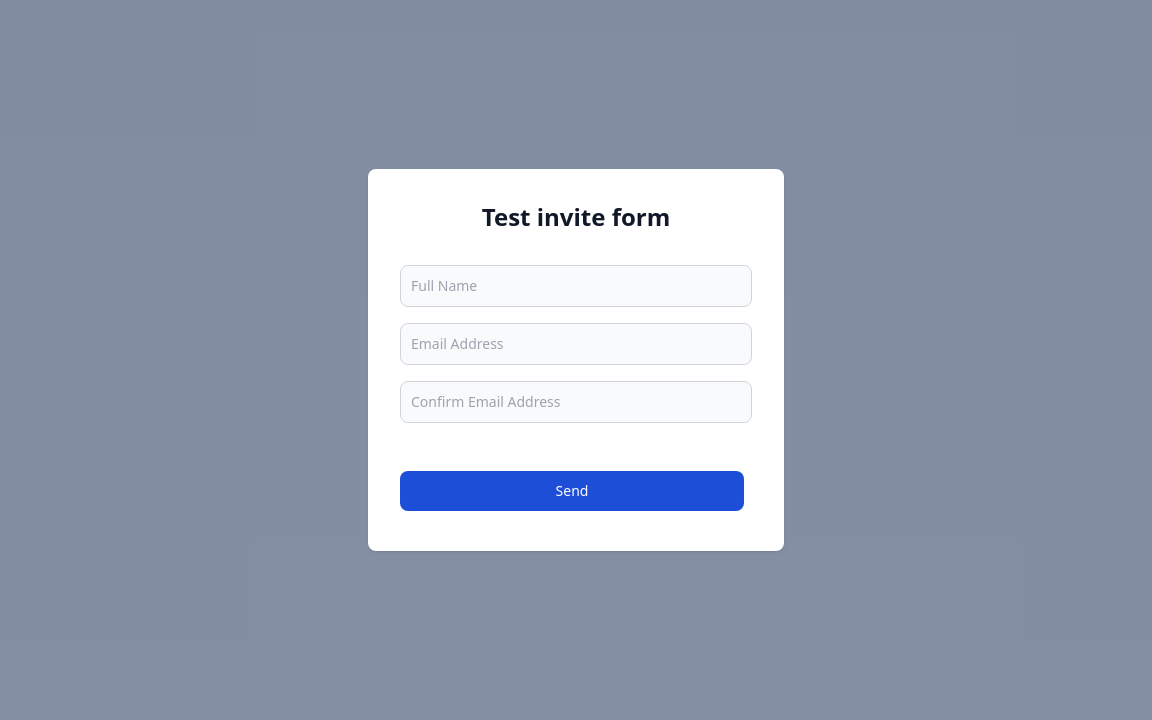
Test: Component: InviteModal -> › Show error message when user enter email not valid email format
Type "george" into the field with placeholder "Full Name".
click(576, 286); type("george")  # box top-left (400, 265), bottom-right (752, 307)
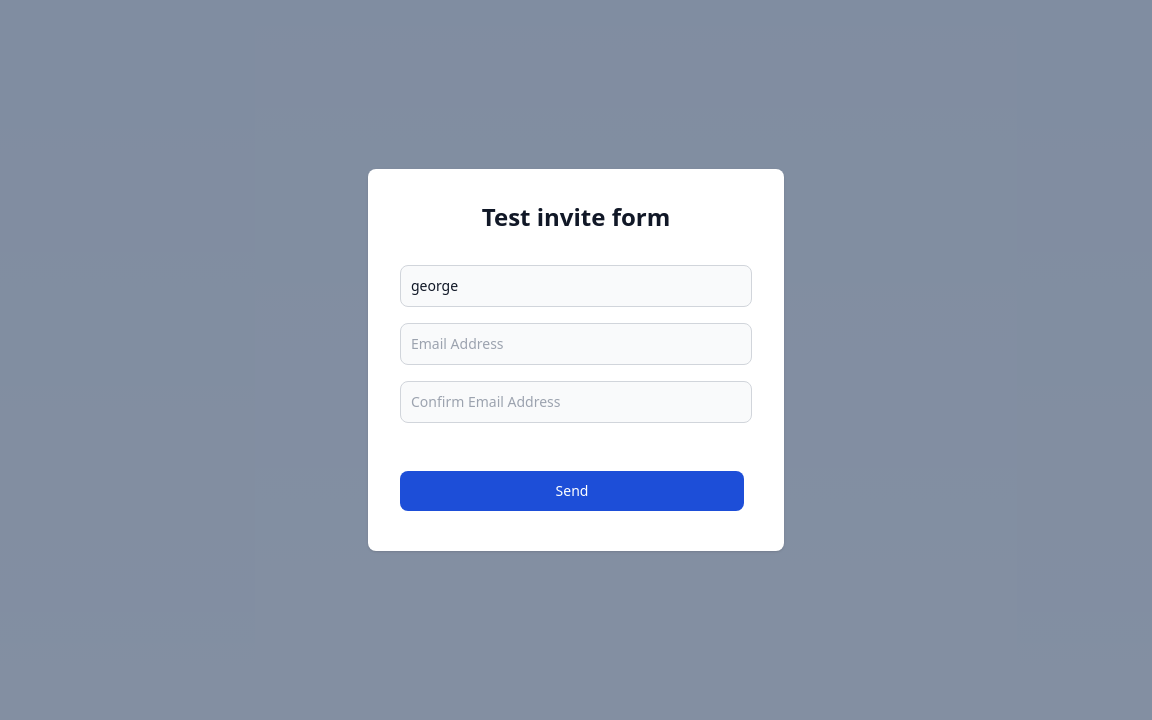
Type "george@test" into the field with placeholder "Email Address".
click(576, 344); type("george@test")  # box top-left (400, 323), bottom-right (752, 365)
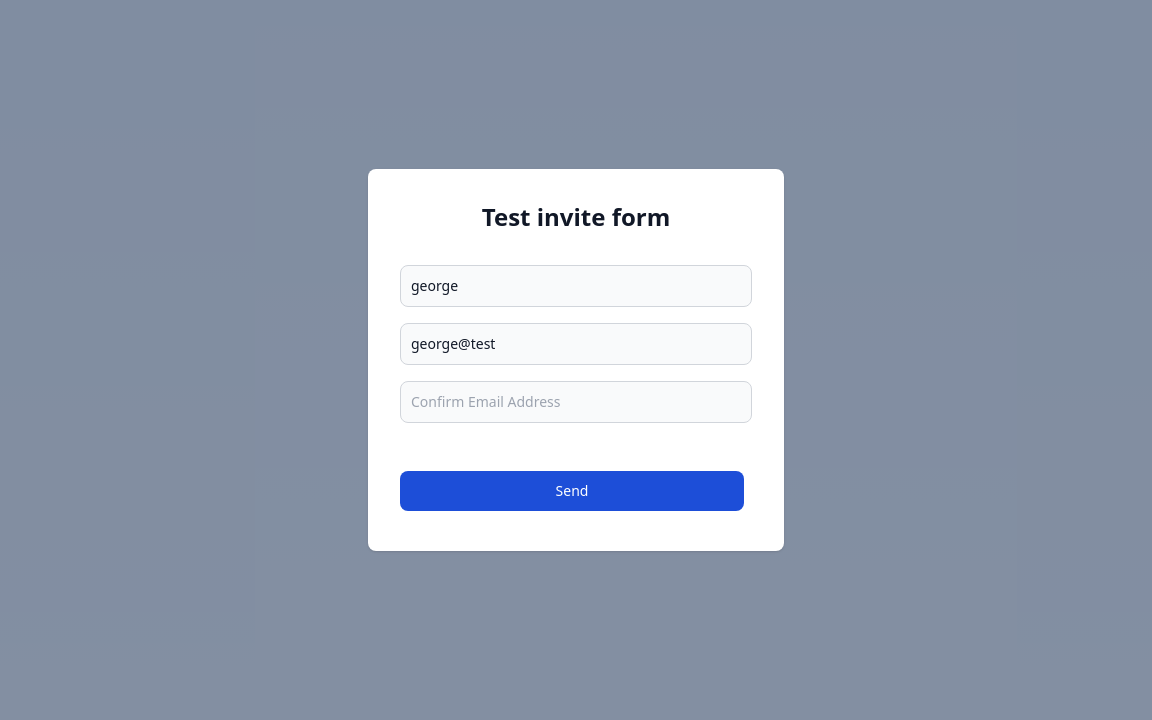
Type "george@test" into the field with placeholder "Confirm Email Address".
click(576, 402); type("george@test")  # box top-left (400, 381), bottom-right (752, 423)
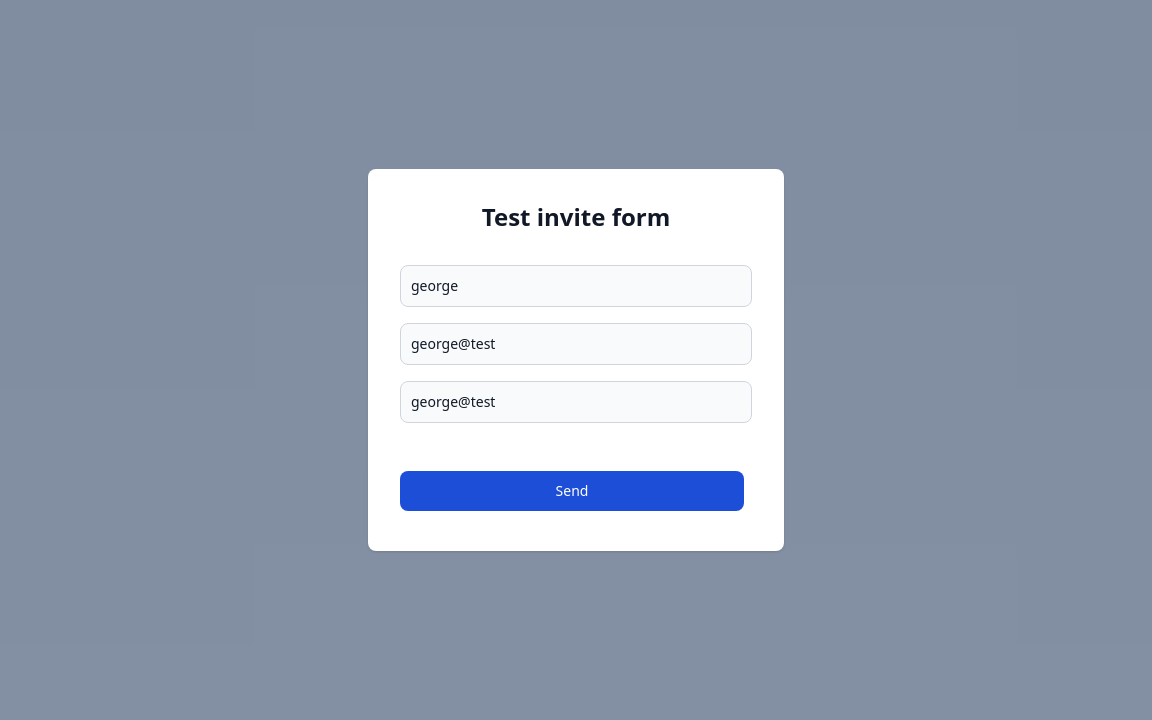
Click the button "Send".
click(572, 491)  # box top-left (400, 471), bottom-right (744, 511)
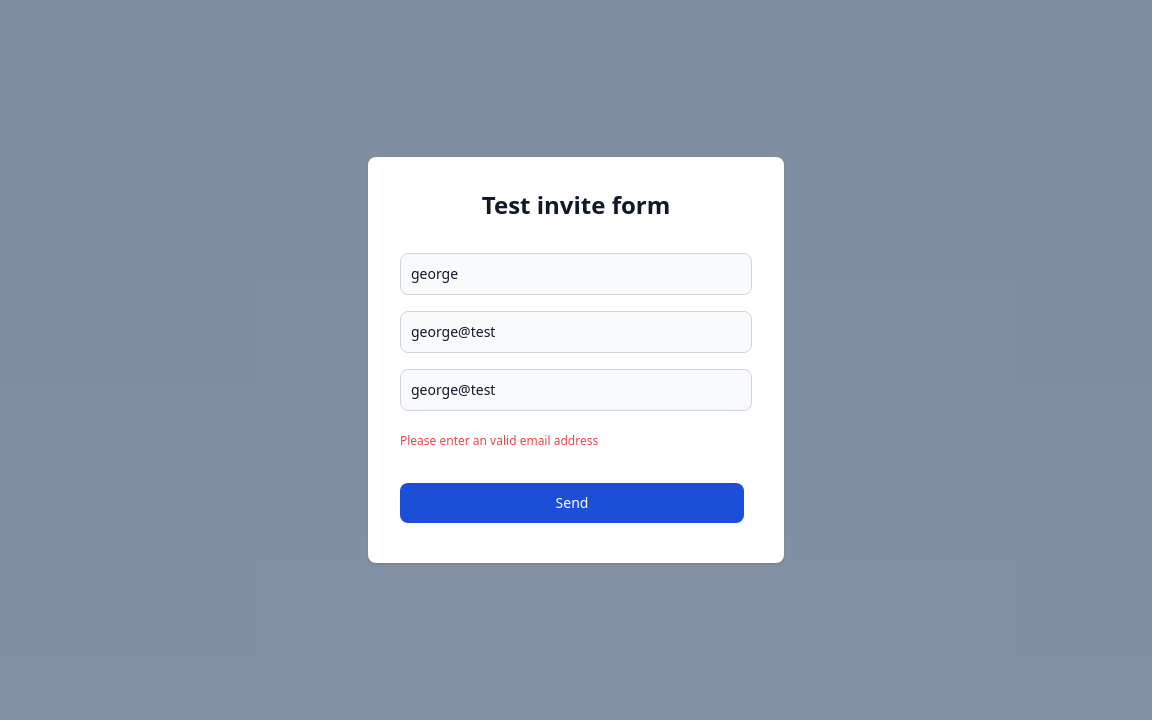
Expected: the text "Please enter an valid email address" is shown, top-left (400, 432), bottom-right (598, 449)
